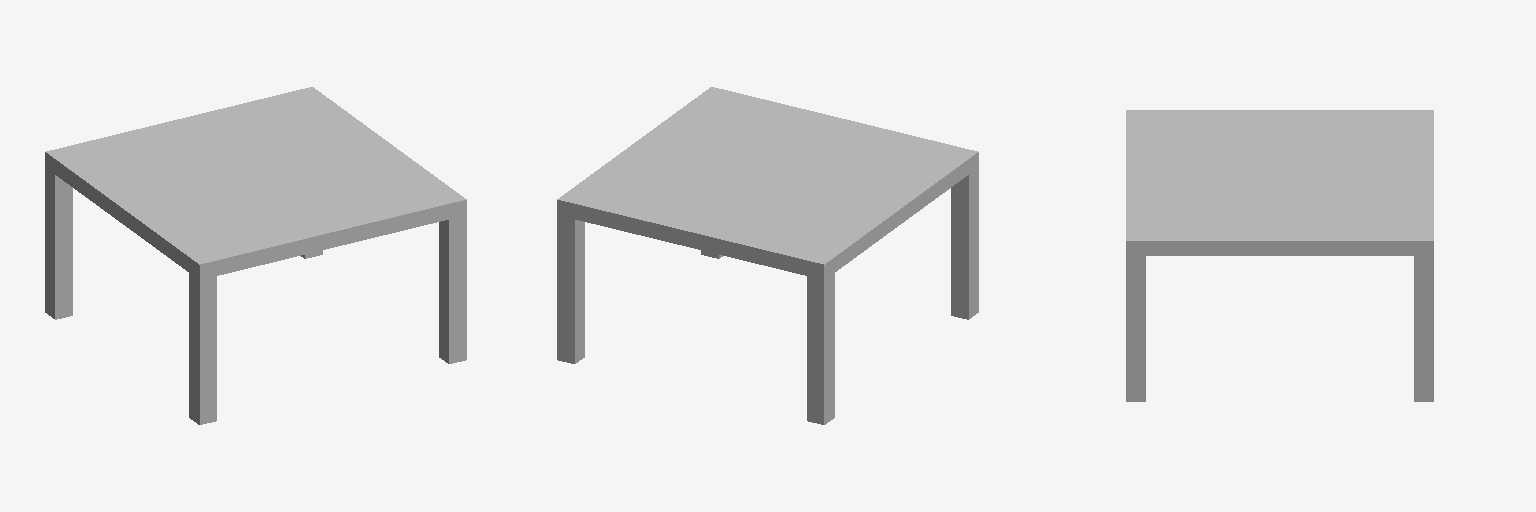
Rendered from squaretable.obj.
The picture shows the model from 3 angles: view 1: azimuth 30°, elevation 25°; view 2: azimuth 150°, elevation 25°; view 3: azimuth 270°, elevation 25°; orthographic projection.
Parts seen in each view (by area): view 1: Cube; view 2: Cube; view 3: Cube.
Part boxes in pixels (left/top/right/bottom): Cube: left=45, top=87, right=466, bottom=424; Cube: left=557, top=87, right=978, bottom=424; Cube: left=1126, top=110, right=1433, bottom=401.
Size of the model in its own units: 1.14 by 0.6546 by 1.14.